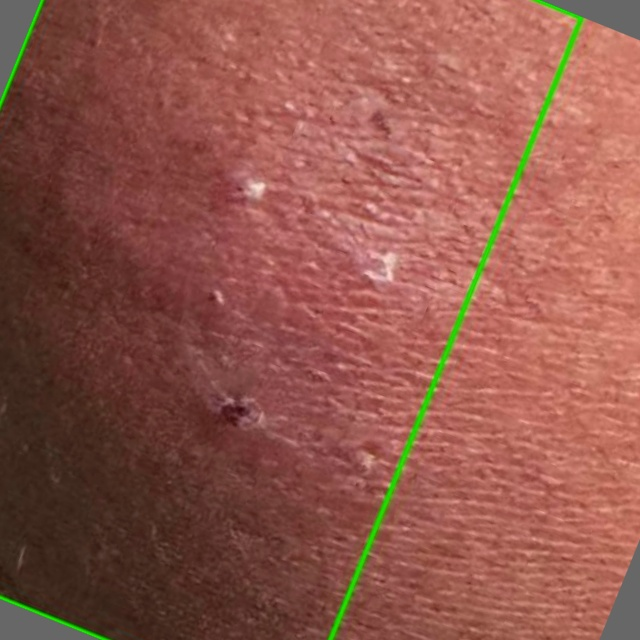Tinea Corporis: (0, 0, 581, 639)
